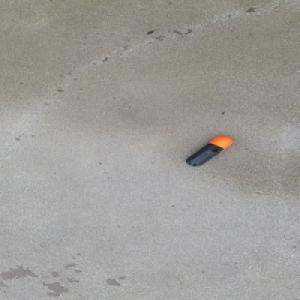PlasticPart: (185, 135, 234, 166)
